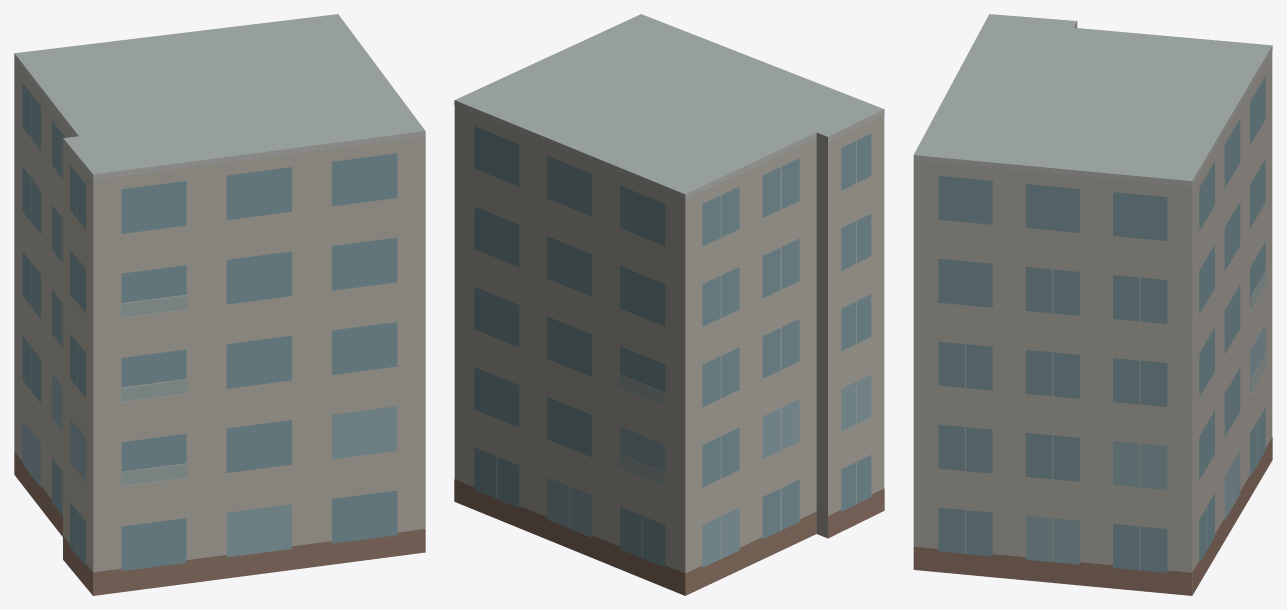
File: survey-upis-32772049.glb
3 views of the same model, side by side, from view 1: azimuth 30°, elevation 25°; view 2: azimuth 150°, elevation 25°; view 3: azimuth 270°, elevation 25° (orthographic). The views are drawn at different scales.
Visible parts, largest first — view 1: survey-upis-32772049.tmp; view 2: survey-upis-32772049.tmp; view 3: survey-upis-32772049.tmp.
Boxes of the visible parts, box(x1,y1,x2,y2) form: survey-upis-32772049.tmp: box(14, 14, 425, 595); survey-upis-32772049.tmp: box(454, 14, 884, 595); survey-upis-32772049.tmp: box(913, 14, 1272, 595).
Bounding box in the file's own units: 16.22 × 18.75 × 14.72.
